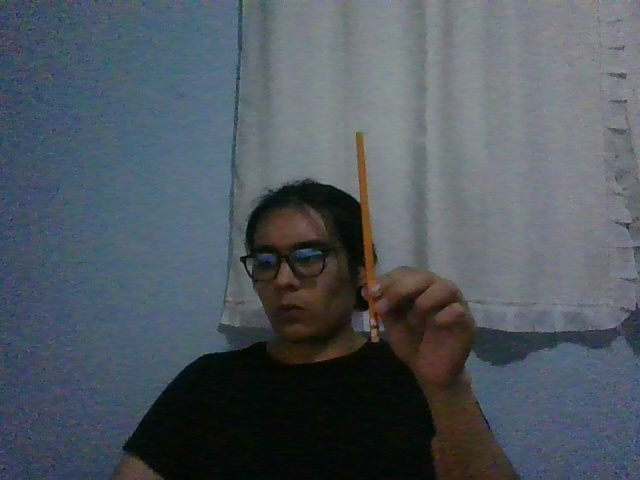lapiz: (353, 130, 381, 343)
